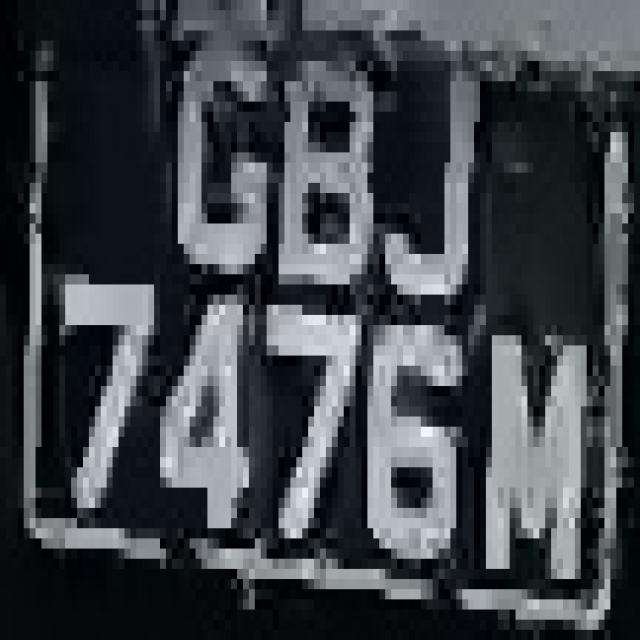4: (160, 254, 261, 599)
6: (362, 295, 468, 579)
7: (42, 214, 142, 548), (260, 264, 356, 579)
B: (273, 21, 391, 336)
G: (160, 21, 279, 284)
J: (373, 31, 492, 336)
M: (468, 264, 587, 610)
